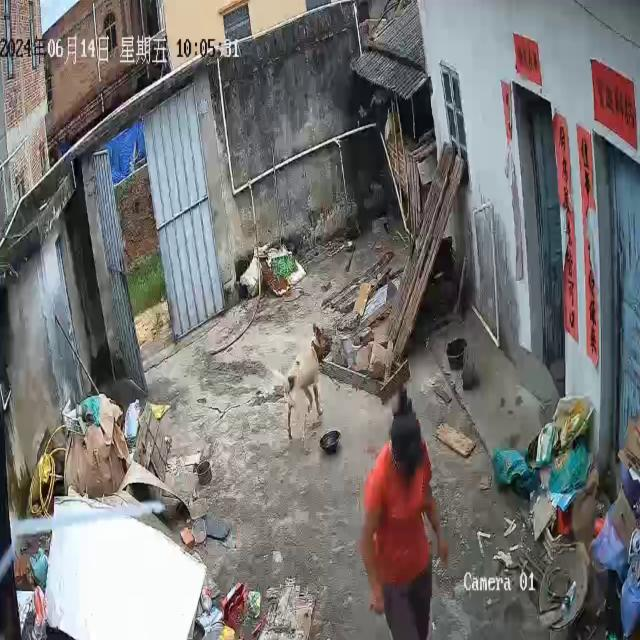dog: (283, 323, 335, 443)
